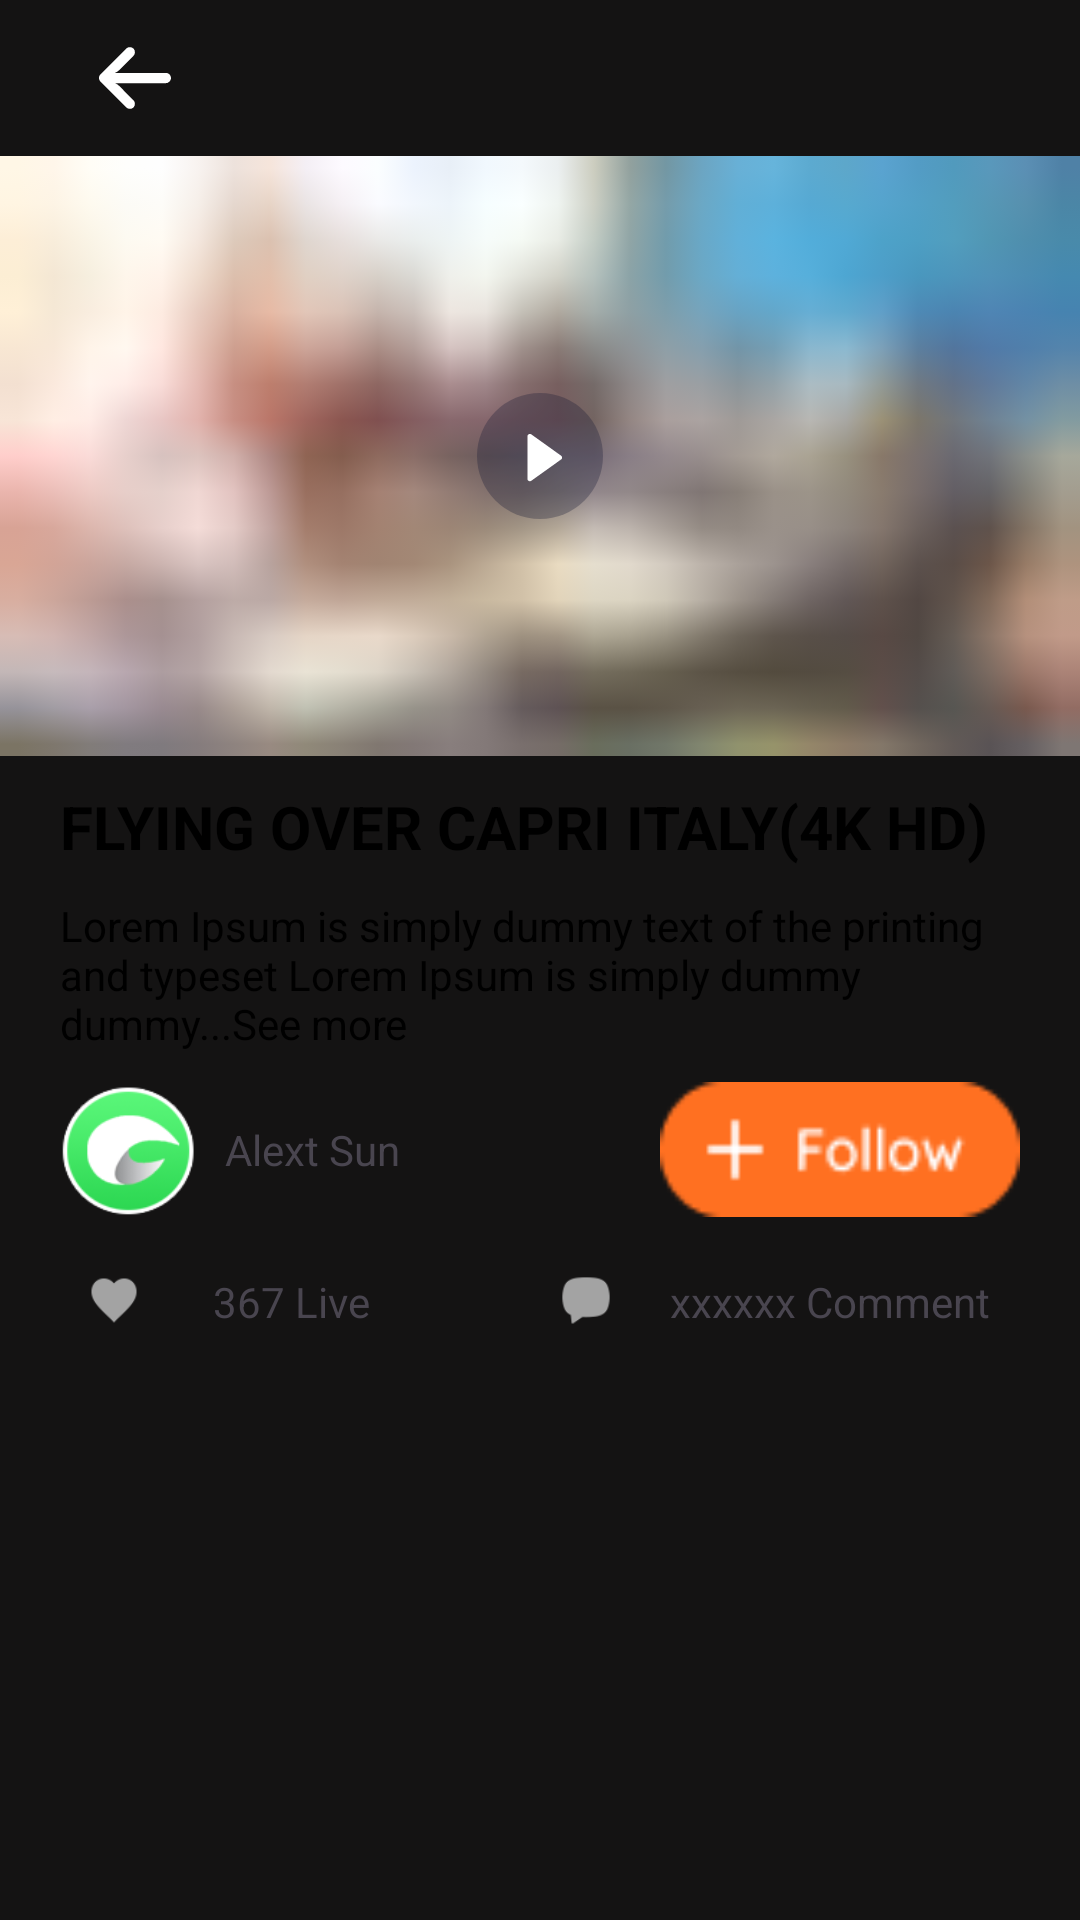

Where to tap for icons on this 1080w x 1920h app screen, as (x,y):
om play: (540,456)
onmedia comment: (586,1300)
onmedia like: (114,1300)
